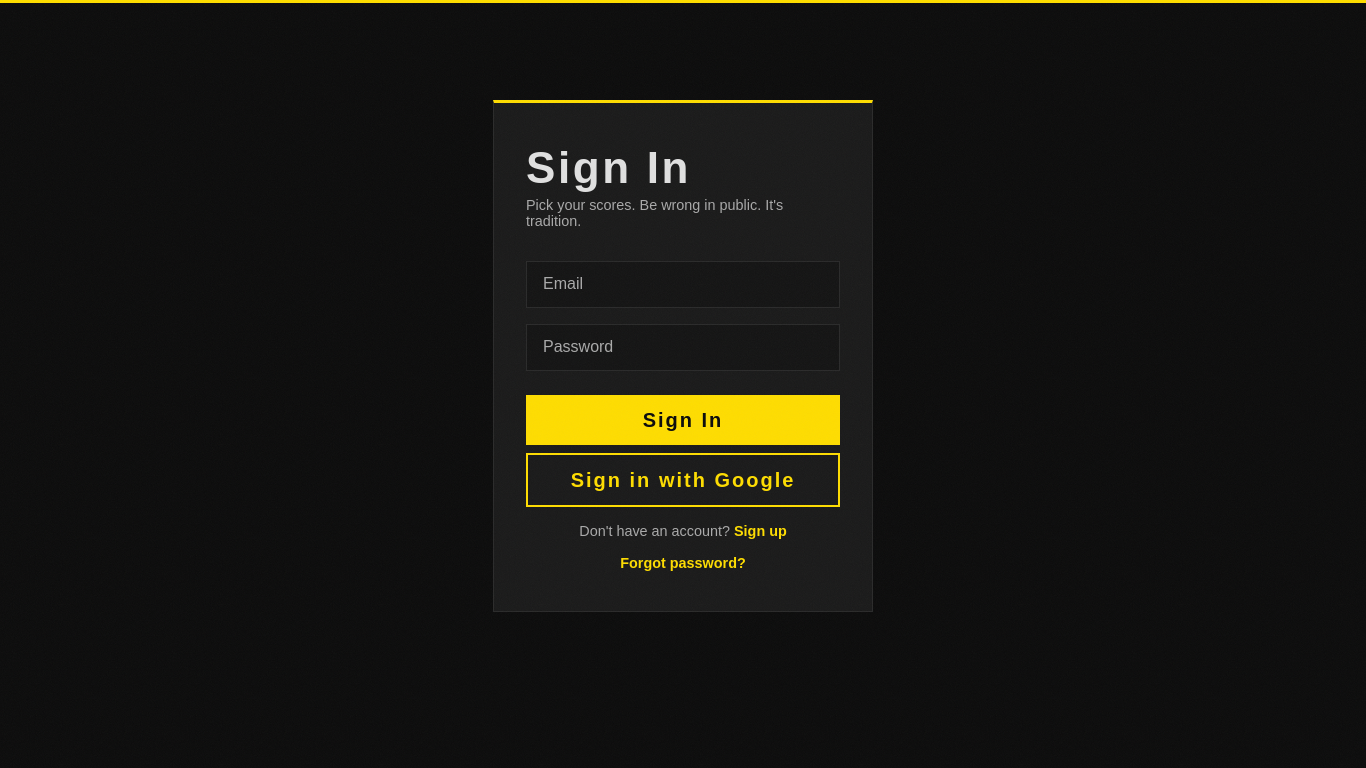
Test case: LoginView › shows "Invalid email or password" when signIn rejects
In the field with placeholder "Email": [683, 284] box [526,261,840,308], type "test@crew.mock"
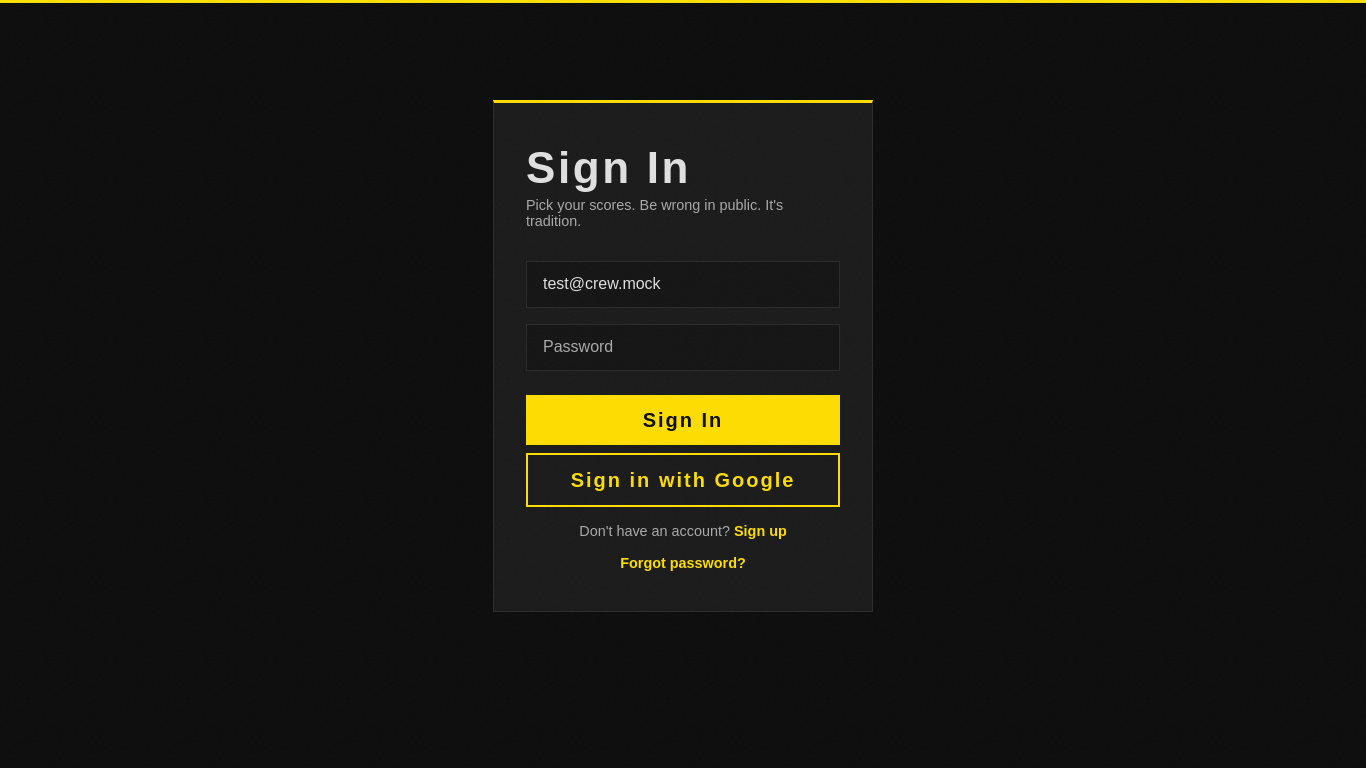
In the password field with placeholder "Password": [683, 347] box [526,324,840,371], type "wrong"
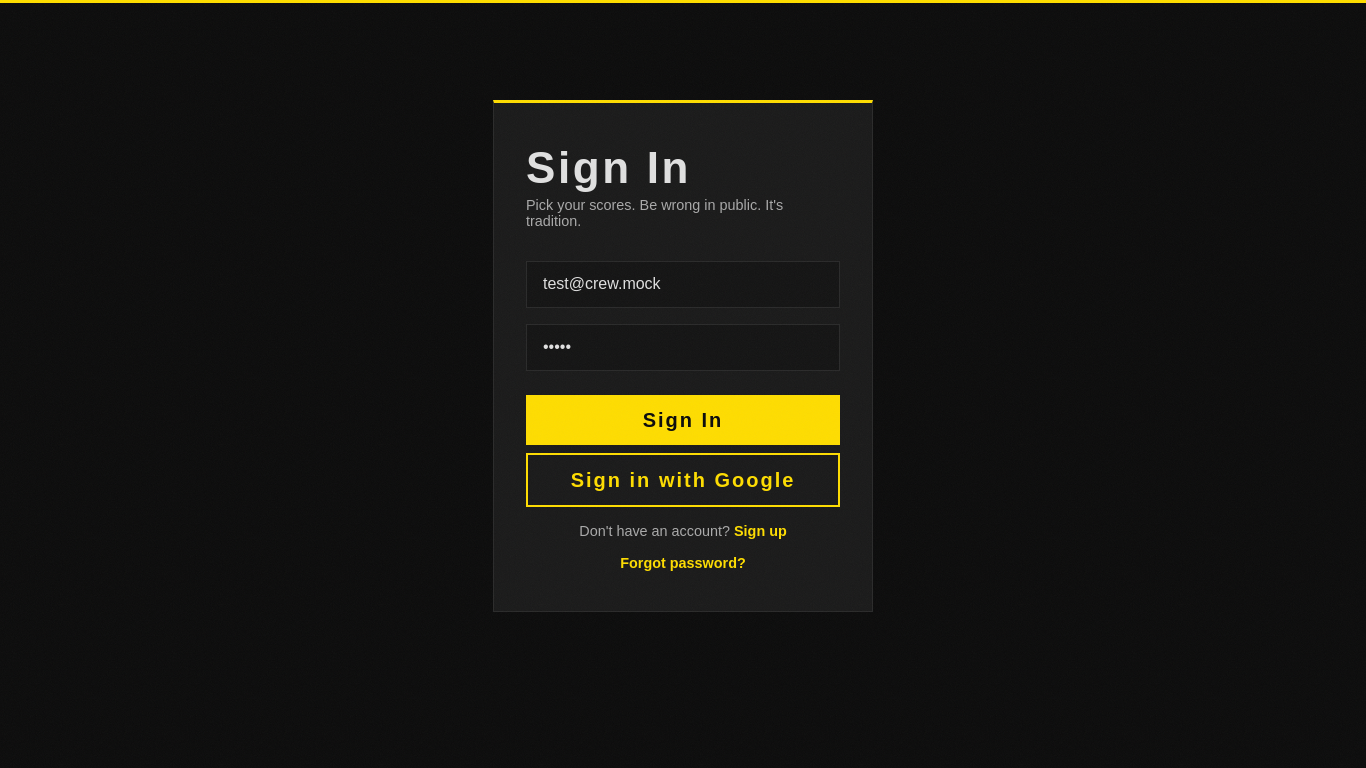
Submit the form, box [526,261,840,445]
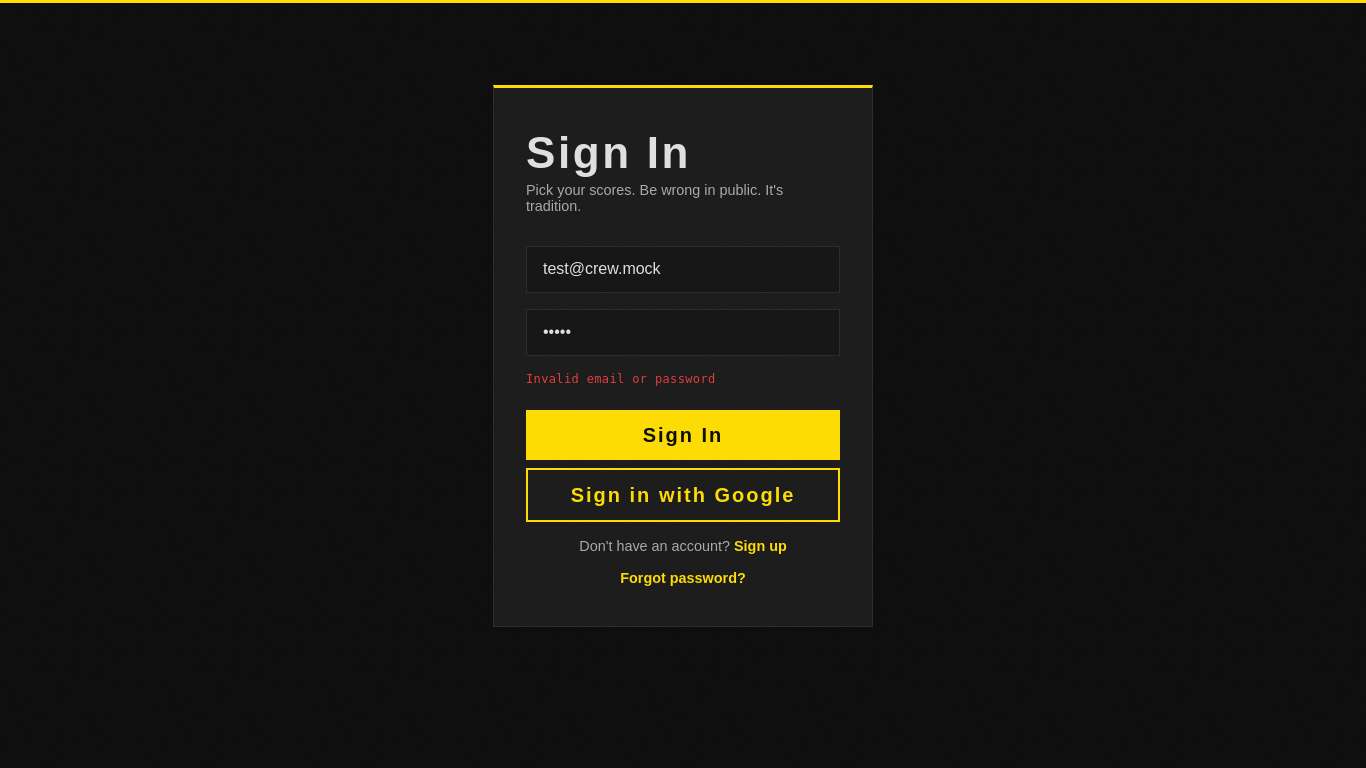
Check: the text with class "form-error" reads "Invalid email or password", box [526,372,716,386]
